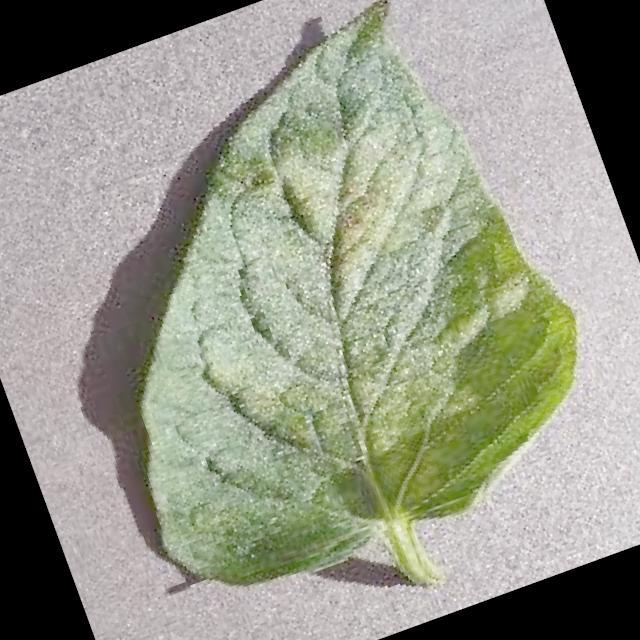Tomato spider mites leaf: (9, 0, 625, 621)
